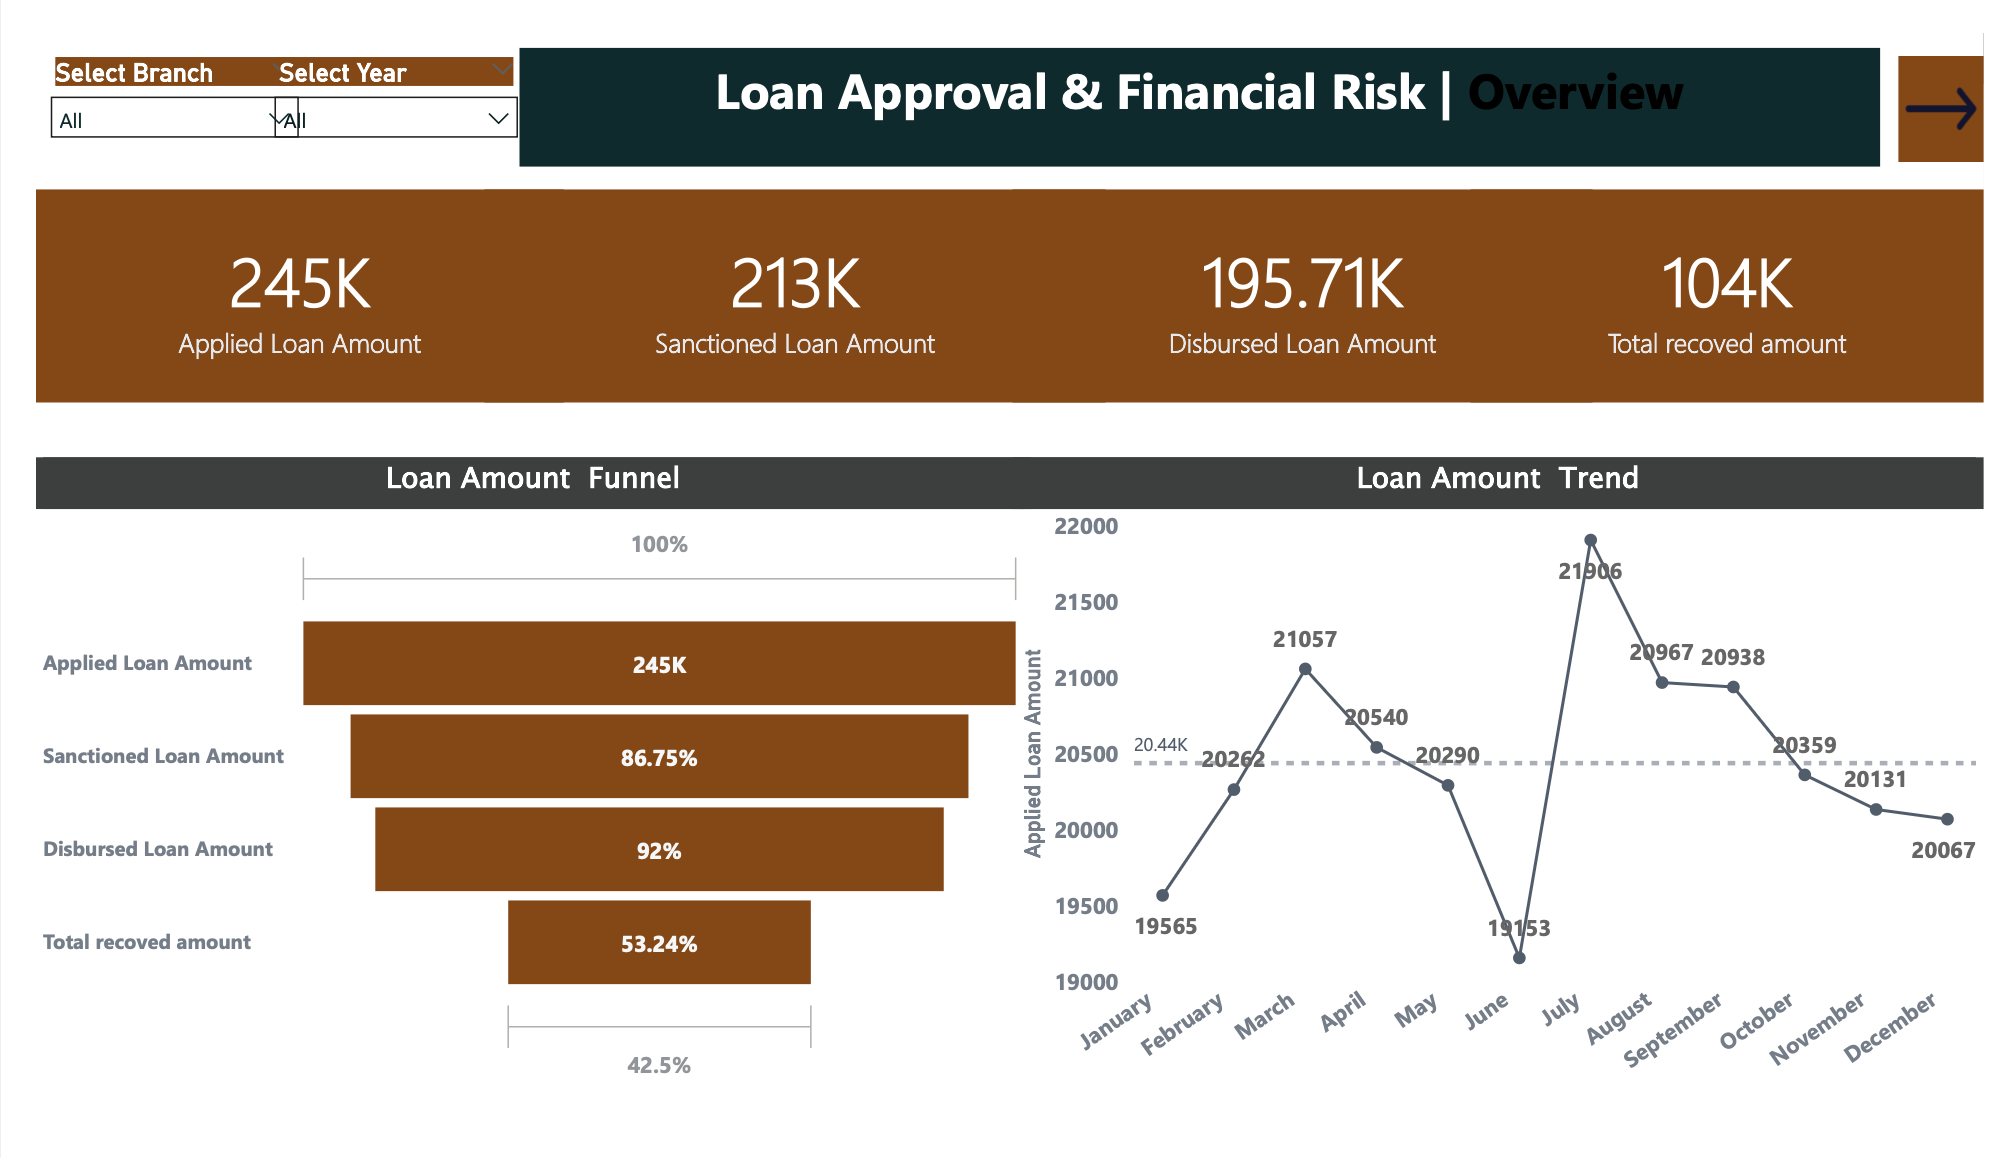

The dashboard page shown, as its layout file describes it:
{"tool":"powerbi","page":{"name":"Page 1","canvas":[1280,720],"ordinal":0},"visuals":[{"type":"card","fields":{"Values":["Customer.Applied Loan Amount"]},"box":[0,103.2,347.1,139.3],"z":0},{"type":"card","fields":{"Values":["Sanction Data.Sanctioned Loan Amount"]},"box":[294.8,103.2,408,139.3],"z":1000},{"type":"card","fields":{"Values":["Sanction Data.Disbursed Loan Amount"]},"box":[641.9,103.2,380.7,139.3],"z":2000},{"type":"card","fields":{"Values":["Recovery Data.Total recoved amount"]},"box":[942.9,103.2,337.1,139.3],"z":3000},{"type":"funnel","title":"Loan Amount  Funnel","fields":{"Y":["Customer.Applied Loan Amount","Sanction Data.Sanctioned Loan Amount","Sanction Data.Disbursed Loan Amount","Recovery Data.Total recoved amount"]},"box":[0,278.6,654.3,422.9],"z":4000},{"type":"lineChart","title":"Loan Amount  Trend","fields":{"Y":["Customer.Applied Loan Amount"],"Category":["Customer.Month Year.Variation.Date Hierarchy.Year","Customer.Month Year.Variation.Date Hierarchy.Quarter","Customer.Month Year.Variation.Date Hierarchy.Month","Customer.Month Year.Variation.Date Hierarchy.Day"]},"box":[641.9,278.6,638.2,422.9],"z":5000},{"type":"slicer","fields":{"Values":["Branch.Branch Name"]},"box":[0,11,182.5,78.2],"z":6000},{"type":"slicer","fields":{"Values":["Customer.Month Year"]},"box":[146.8,11.2,180.4,78.4],"z":7000},{"type":"textbox","box":[318.5,10,893.2,78.4],"z":8000},{"type":"actionButton","box":[1224.1,14.9,56,69.7],"z":9000}]}

Visuals, with their boxes in screenshot pixels (x1, y1, x2, y2), scaled from the page's 1280x720 canvas onto the 2012x1158 screenshot:
card - Customer.Applied Loan Amount: {"x1": 0, "y1": 166, "x2": 546, "y2": 390}
card - Sanction Data.Sanctioned Loan Amount: {"x1": 463, "y1": 166, "x2": 1105, "y2": 390}
card - Sanction Data.Disbursed Loan Amount: {"x1": 1009, "y1": 166, "x2": 1607, "y2": 390}
card - Recovery Data.Total recoved amount: {"x1": 1482, "y1": 166, "x2": 2011, "y2": 390}
"Loan Amount  Funnel" funnel: {"x1": 0, "y1": 448, "x2": 1028, "y2": 1128}
"Loan Amount  Trend" lineChart: {"x1": 1009, "y1": 448, "x2": 2011, "y2": 1128}
slicer - Branch.Branch Name: {"x1": 0, "y1": 18, "x2": 287, "y2": 143}
slicer - Customer.Month Year: {"x1": 231, "y1": 18, "x2": 514, "y2": 144}
textbox: {"x1": 501, "y1": 16, "x2": 1905, "y2": 142}
actionButton: {"x1": 1924, "y1": 24, "x2": 2011, "y2": 136}
